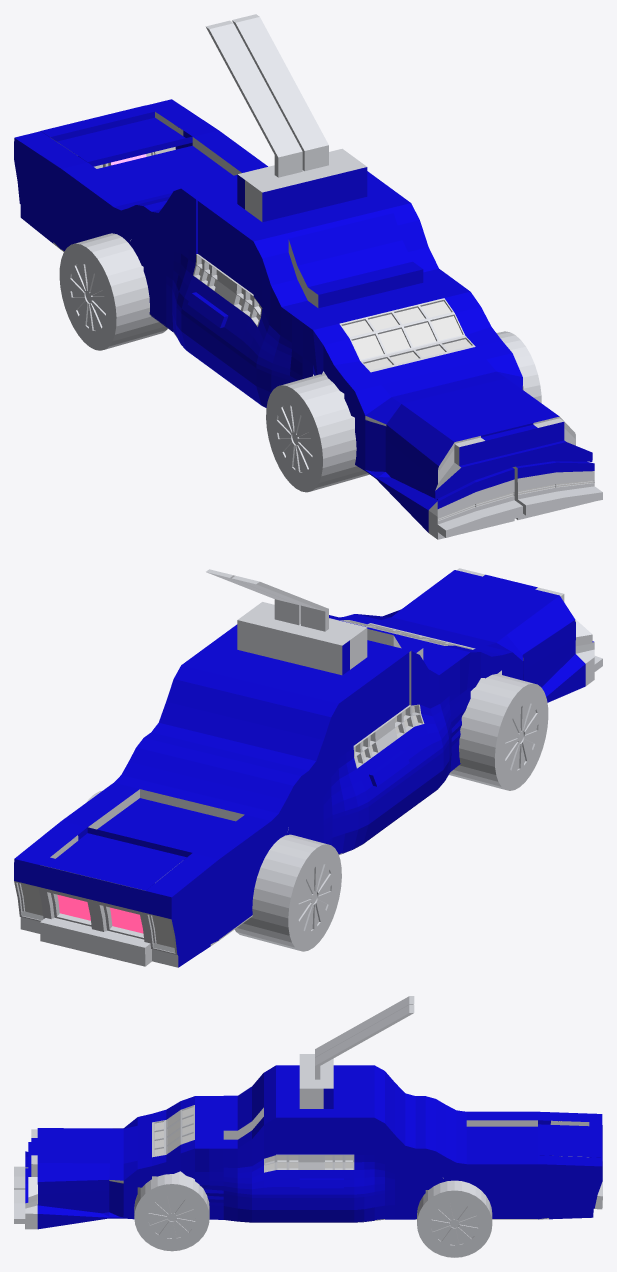
Rendered from Concept car.fbx.
3 renders of one model, top to bottom at view 1: azimuth 30°, elevation 25°; view 2: azimuth 150°, elevation 25°; view 3: azimuth 270°, elevation 25°, orthographic. The views are drawn at different scales.
Visible parts, largest first — view 1: Cube.001, wheels; view 2: Cube.001, wheels; view 3: Cube.001, wheels.
Boxes of the visible parts, x1,y1,x2,y2 form: Cube.001: [14, 14, 602, 539]; wheels: [59, 233, 541, 492]; Cube.001: [14, 568, 602, 967]; wheels: [86, 674, 548, 951]; Cube.001: [14, 996, 602, 1237]; wheels: [134, 1171, 492, 1257].
Size of the model in its own units: 4.64 by 6.4 by 15.62.
